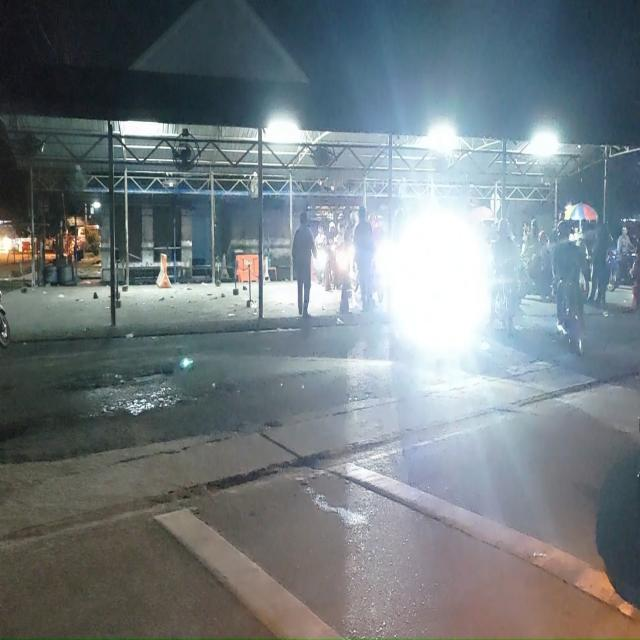Golongan II: (559, 285, 583, 356), (492, 277, 514, 336), (606, 249, 636, 291), (372, 241, 390, 304), (0, 291, 10, 347), (315, 247, 328, 285)
